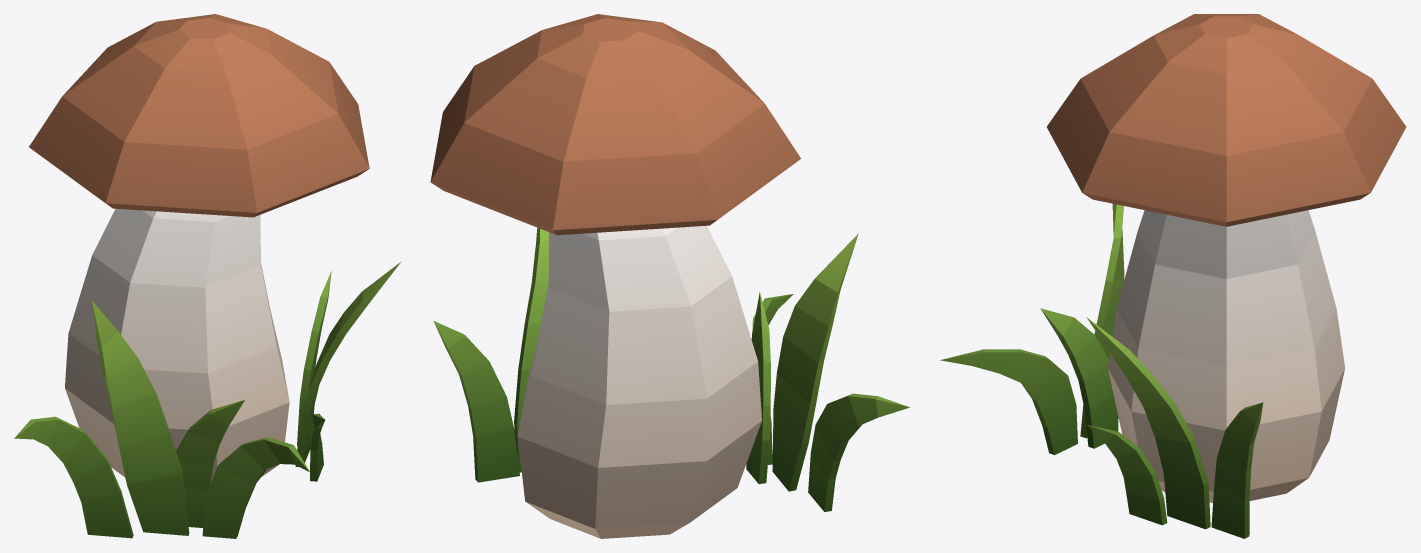
The model's file is mushroom brown 3.fbx.
3 views of the same model, side by side, from view 1: azimuth 30°, elevation 25°; view 2: azimuth 150°, elevation 25°; view 3: azimuth 270°, elevation 25° (orthographic). The views are drawn at different scales.
Visible parts, largest first — view 1: mushroom brown 3; view 2: mushroom brown 3; view 3: mushroom brown 3.
Part boxes in pixels (x1,y1,x2,y2): mushroom brown 3: (14, 14, 401, 538); mushroom brown 3: (430, 14, 909, 538); mushroom brown 3: (940, 14, 1406, 538).
Size of the model in its own units: 47.39 by 50.86 by 47.44.
